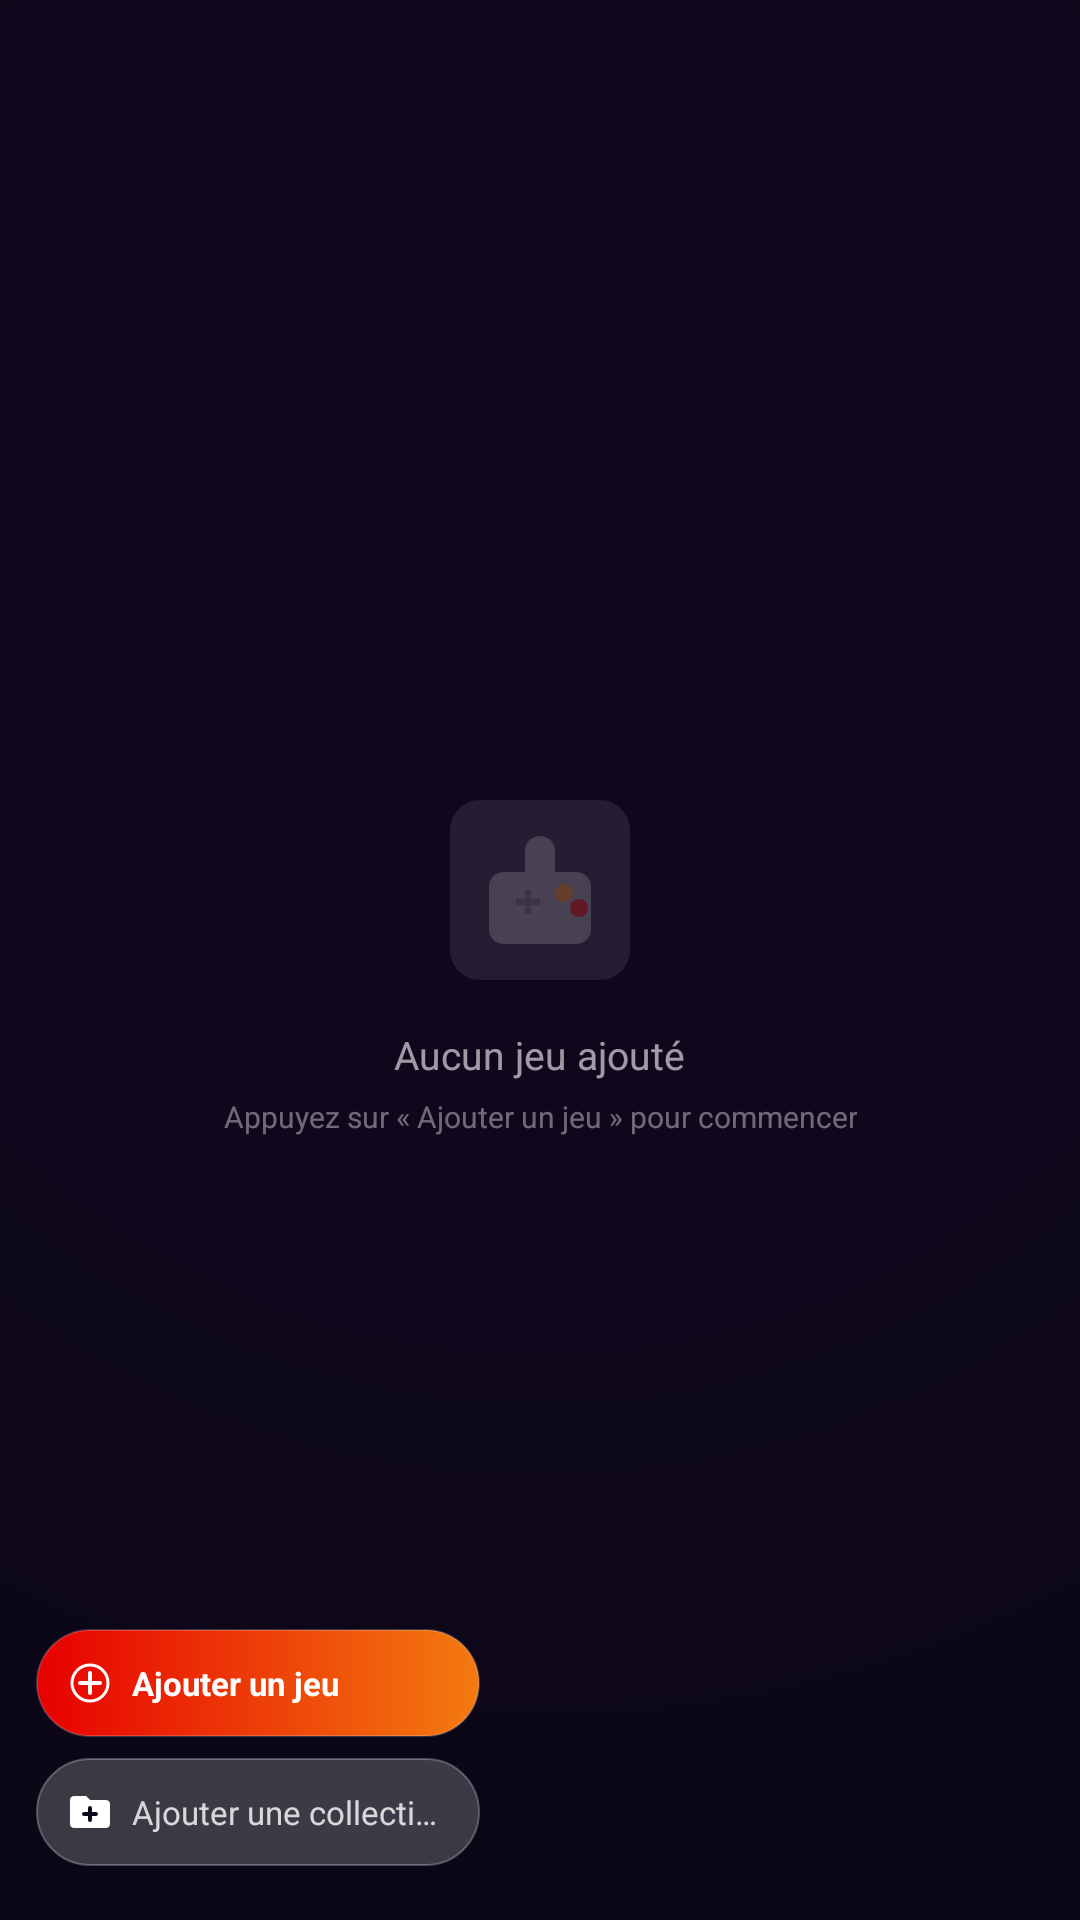

Point at icon controls on the screen. Image size 1080w x 1920h, points as (x,y).
add collection: (90,1812)
add game: (90,1683)
